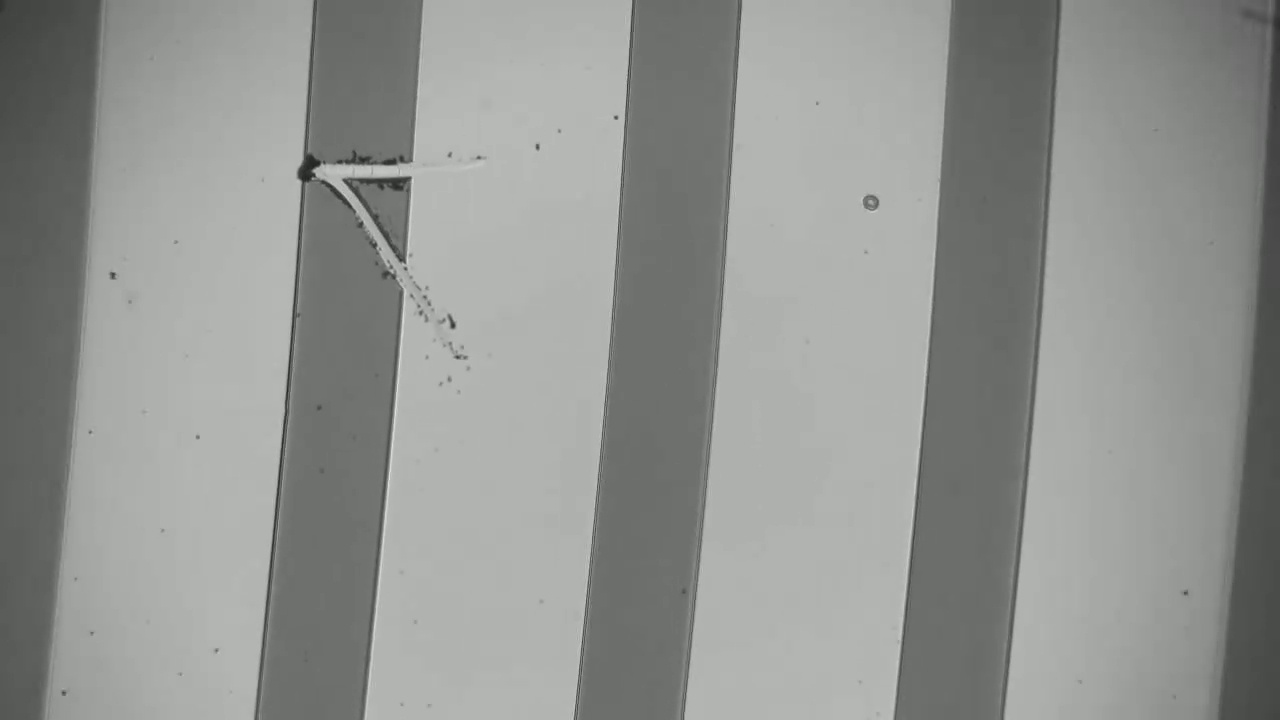Short_circuit: (274, 136, 434, 200)
